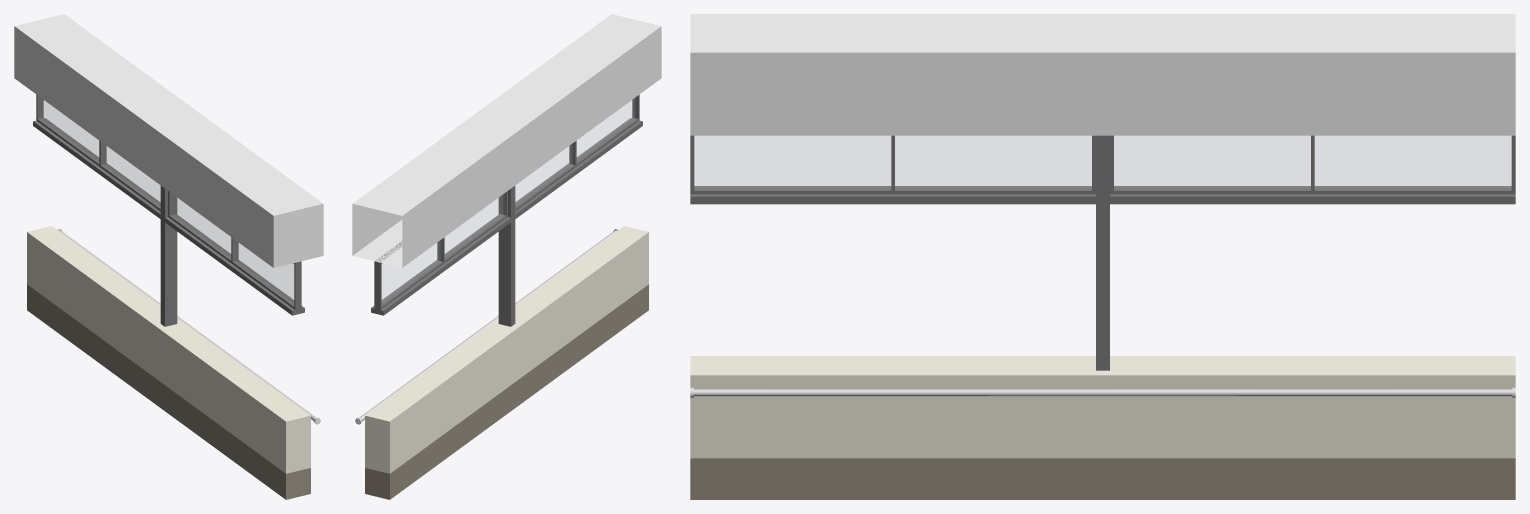
File: Wall_Window.fbx
The picture shows the model from 3 angles, left to right: view 1: azimuth 30°, elevation 25°; view 2: azimuth 150°, elevation 25°; view 3: azimuth 270°, elevation 25°; orthographic projection. The views are drawn at different scales.
Parts seen in each view (by area): view 1: Wall_03, Wall_01, Wall_02, Window_Frame, Pole_03; view 2: Wall_03, Wall_01, Window_Frame, Wall_02, Pole_03; view 3: Wall_03, Wall_01, Wall_02, Window_Frame, Pole_03.
Boxes of the visible parts, box(x1,y1,x2,y2) form: Wall_03: box(14, 14, 323, 267); Wall_01: box(27, 226, 310, 473); Wall_02: box(27, 284, 310, 499); Window_Frame: box(33, 94, 304, 326); Pole_03: box(57, 228, 318, 423); Wall_03: box(352, 14, 661, 267); Wall_01: box(365, 226, 648, 473); Window_Frame: box(371, 94, 642, 326); Wall_02: box(365, 284, 648, 499); Pole_03: box(357, 228, 618, 423); Wall_03: box(690, 14, 1515, 135); Wall_01: box(690, 356, 1515, 458); Wall_02: box(690, 458, 1515, 499); Window_Frame: box(690, 135, 1515, 370); Pole_03: box(690, 387, 1515, 398).
Size of the model in its own units: 60.96 by 335 by 549.
